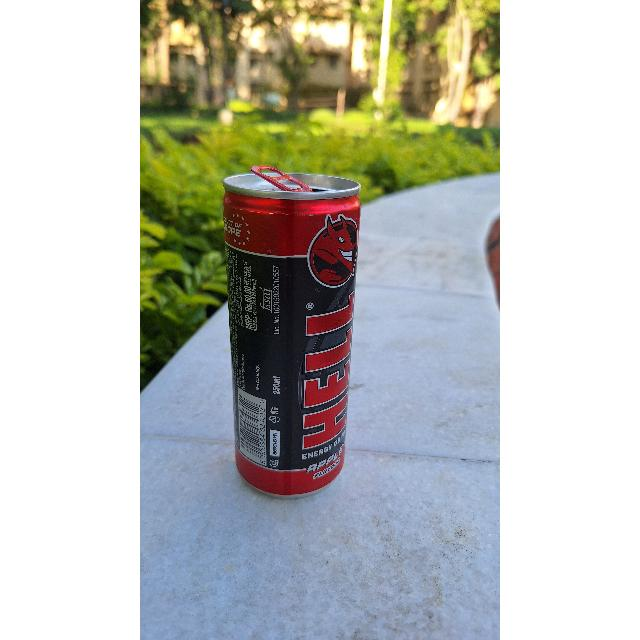Hell Apple: (216, 164, 360, 496)
